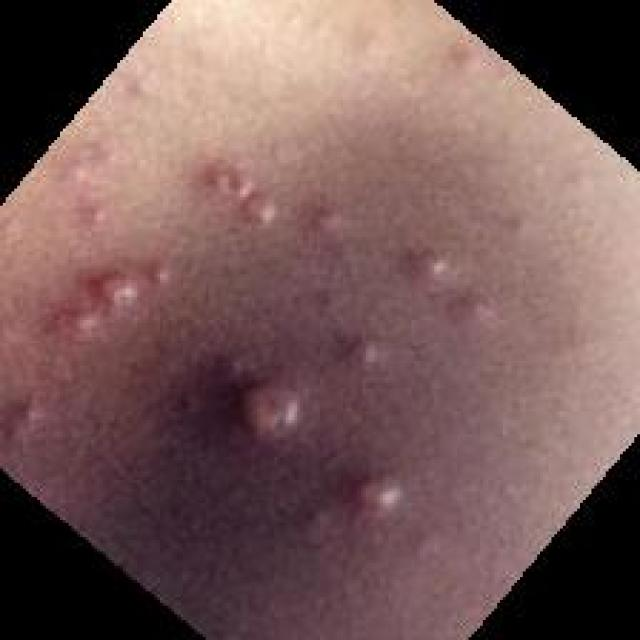others: (39, 90, 561, 590)
